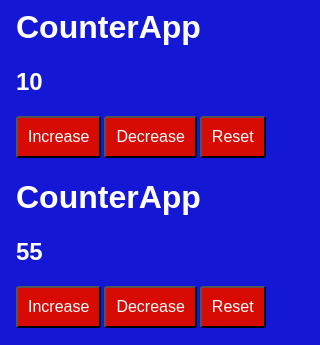
it: Testing the Counter App › should set the default value in the Reset Button
Click the button "Increase" below "55" at (59, 307), box top-left (16, 286), bottom-right (101, 328)
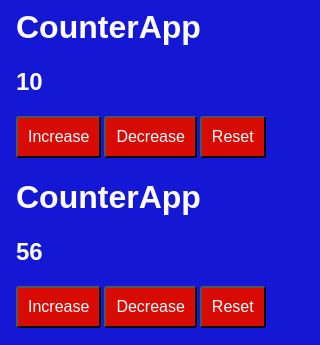
Click the button "Reset" below "56" at (233, 307), box top-left (200, 286), bottom-right (266, 328)
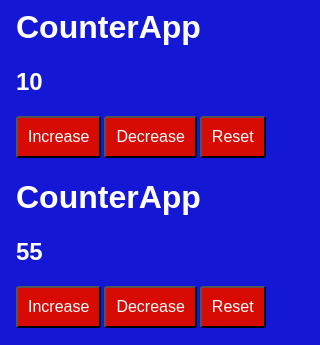
Now the heading "55" is shown, box top-left (16, 238), bottom-right (43, 265)
